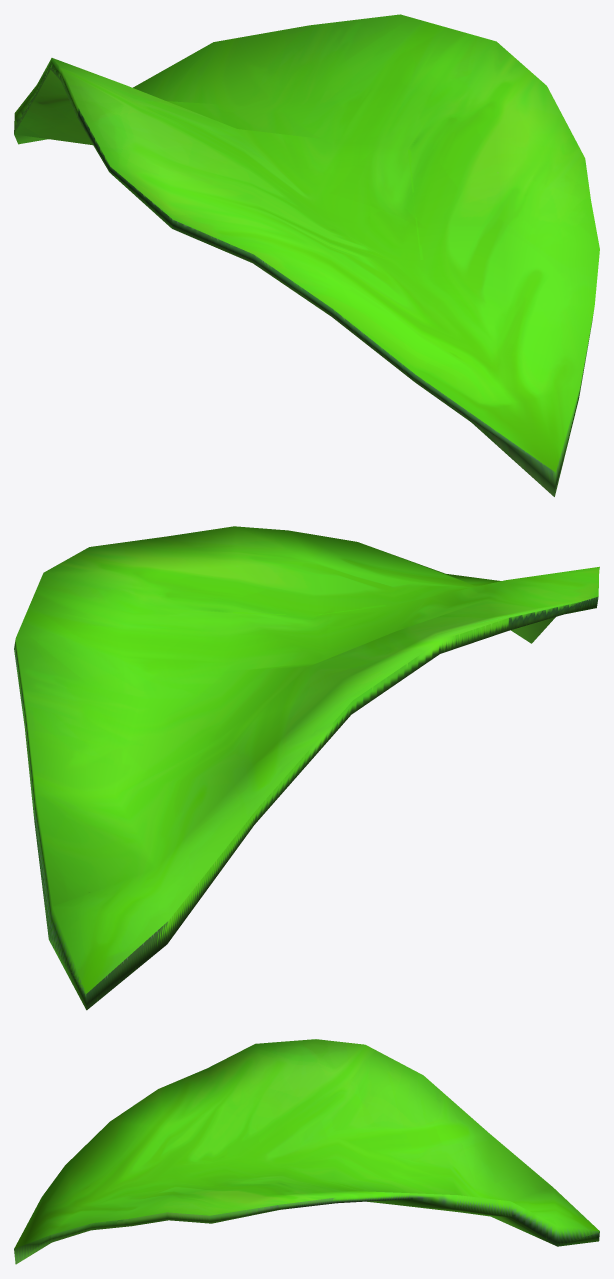
Rendered from hoja.fbx.
The picture shows the model from 3 angles, top to bottom: view 1: azimuth 30°, elevation 25°; view 2: azimuth 150°, elevation 25°; view 3: azimuth 270°, elevation 25°; orthographic projection. The views are drawn at different scales.
Parts seen in each view (by area): view 1: Plane; view 2: Plane; view 3: Plane.
Boxes of the visible parts, x1,y1,x2,y2 form: Plane: (14, 14, 599, 496); Plane: (14, 526, 599, 1010); Plane: (14, 1039, 599, 1264).
Bounding box in the file's own units: 0.0104 × 0.0058 × 0.0192.
1 material, 1 textured.
